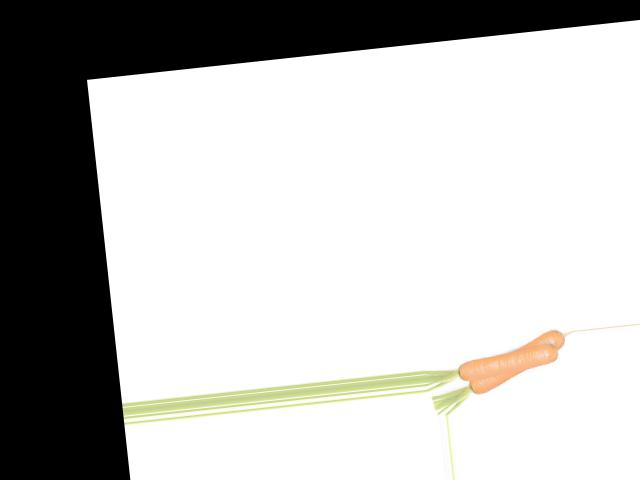carrot: (455, 330, 577, 396)
